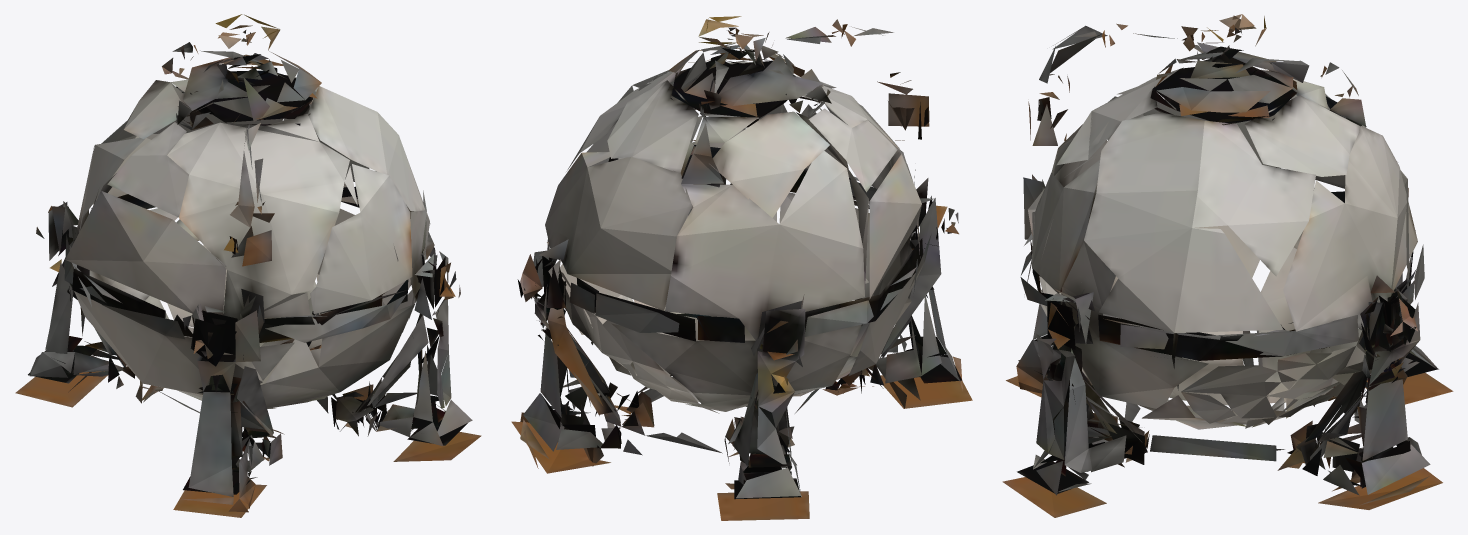
The model's file is reservoir-bas.glb.
The picture shows the model from 3 angles, left to right: view 1: azimuth 30°, elevation 25°; view 2: azimuth 150°, elevation 25°; view 3: azimuth 270°, elevation 25°; orthographic projection. The views are drawn at different scales.
Visible parts, largest first — view 1: reservoir-bas; view 2: reservoir-bas; view 3: reservoir-bas.
Boxes of the visible parts, box(x1,y1,x2,y2) form: reservoir-bas: box(15, 14, 481, 517); reservoir-bas: box(511, 16, 972, 520); reservoir-bas: box(1002, 14, 1453, 517).
Size of the model in its own units: 3.14 by 3.6 by 3.5.
Materials: 1 (1 with a texture image).
